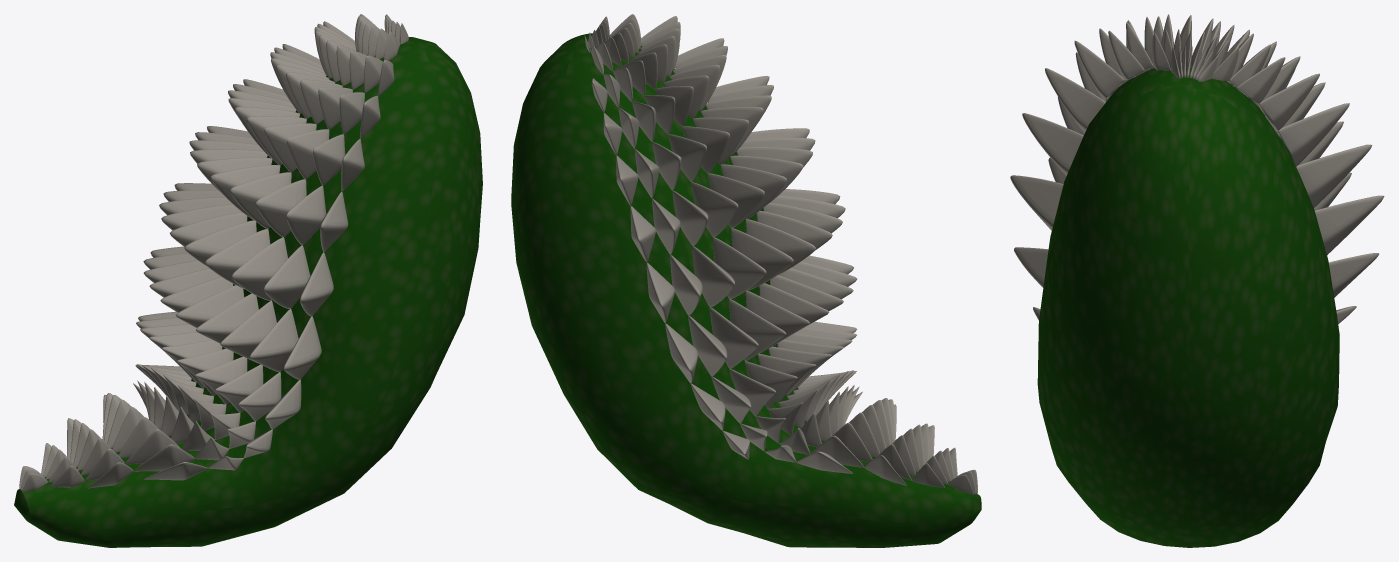
File: dikenliback.fbx
The picture shows the model from 3 angles, left to right: view 1: azimuth 30°, elevation 25°; view 2: azimuth 150°, elevation 25°; view 3: azimuth 270°, elevation 25°; orthographic projection. The views are drawn at different scales.
Visible parts, largest first — view 1: Sphere.004; view 2: Sphere.004; view 3: Sphere.004.
Boxes of the visible parts, <box> form: Sphere.004: <box>14,14,482,547</box>; Sphere.004: <box>511,14,981,547</box>; Sphere.004: <box>1010,14,1384,547</box>.
Size of the model in its own units: 173 by 173 by 100.
Materials: 2 (1 with a texture image).
